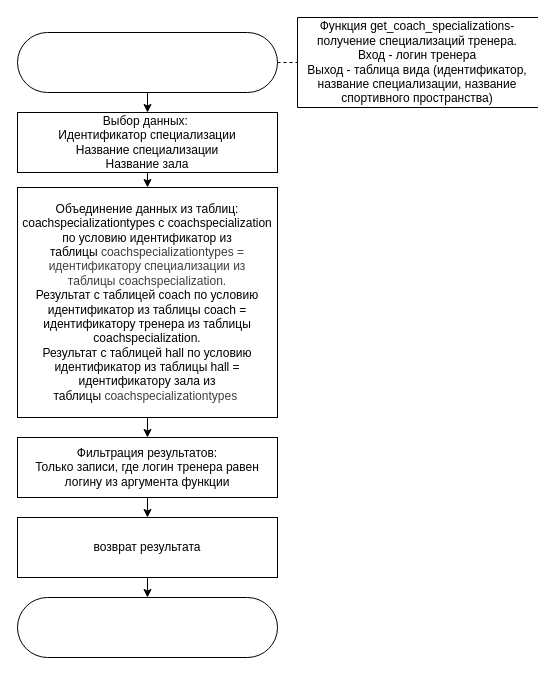
Image size: 555x675. Some labels were removed from this diagram. Each missing label, with the box of its shape:
конец: (16, 596, 278, 658)
начало: (16, 32, 278, 92)
